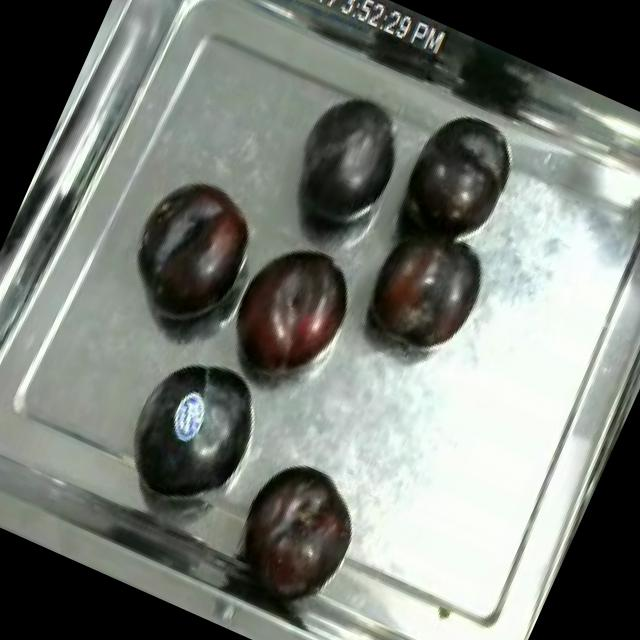Fruit: (106, 332, 284, 525), (208, 222, 372, 406), (217, 444, 378, 622), (120, 165, 274, 341), (268, 73, 422, 247), (348, 210, 502, 370), (386, 100, 530, 256)
